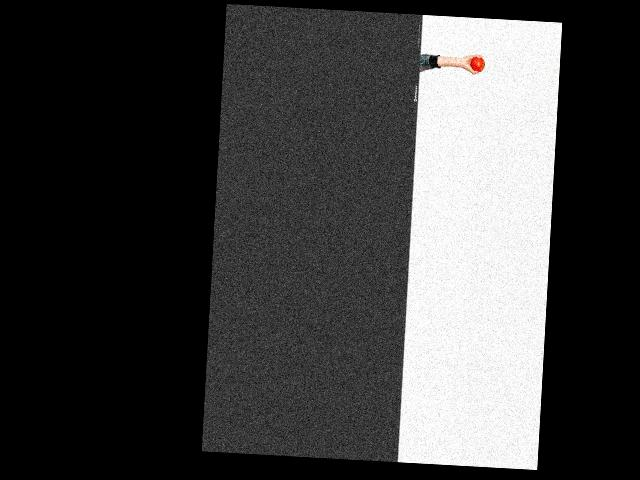tomato: (470, 56, 485, 72)
